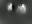person: (21, 5, 28, 17), (8, 3, 14, 14), (17, 5, 22, 15)
